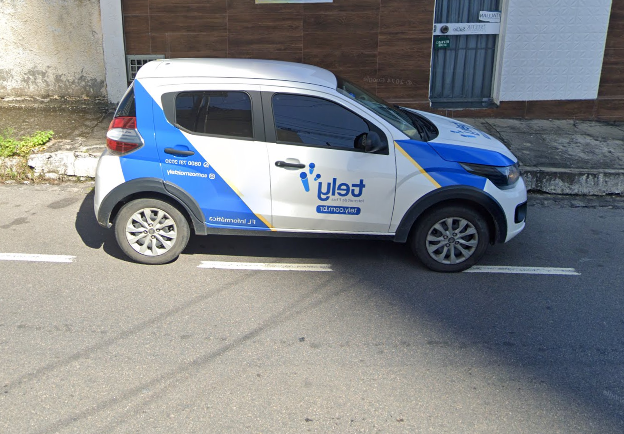car: (90, 54, 533, 274)
